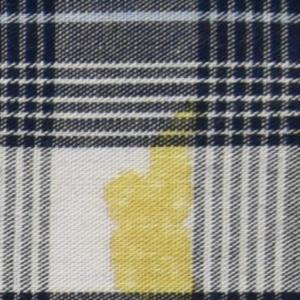Stain: (102, 99, 202, 300)
